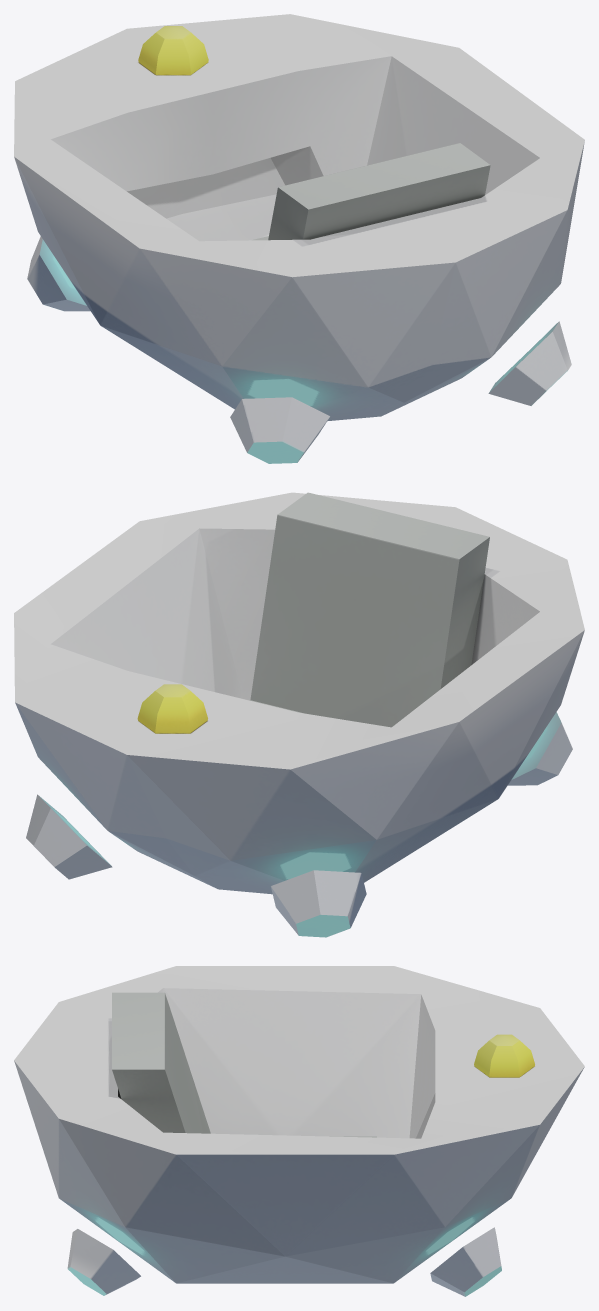
The model's file is pod-start.glb.
3 views of the same model, one above another, from view 1: azimuth 30°, elevation 25°; view 2: azimuth 150°, elevation 25°; view 3: azimuth 270°, elevation 25° (orthographic). The views are drawn at different scales.
Size of the model in its own units: 1.22 by 0.7318 by 1.56.
Materials: 1 (1 with a texture image).
